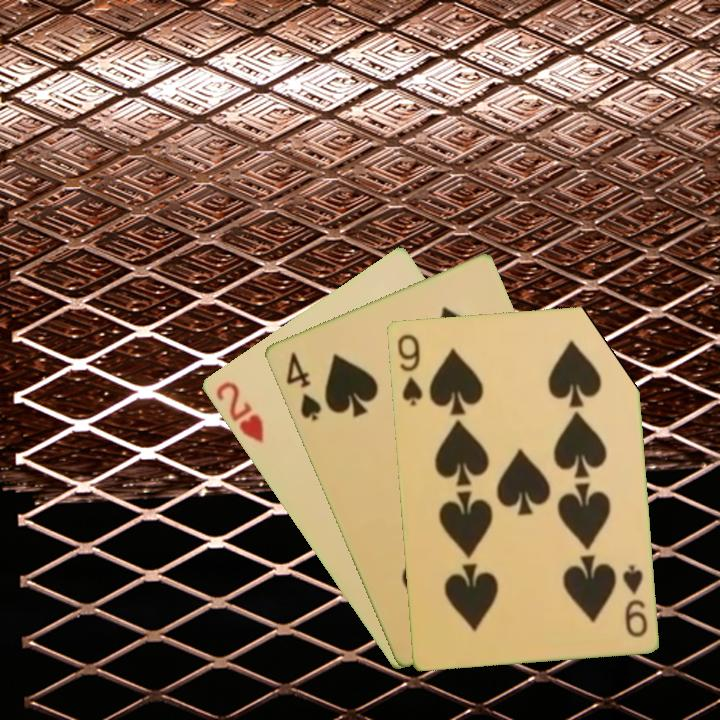2h: (211, 378, 267, 446)
4s: (282, 348, 324, 424)
9s: (618, 561, 650, 640), (393, 330, 425, 408)
